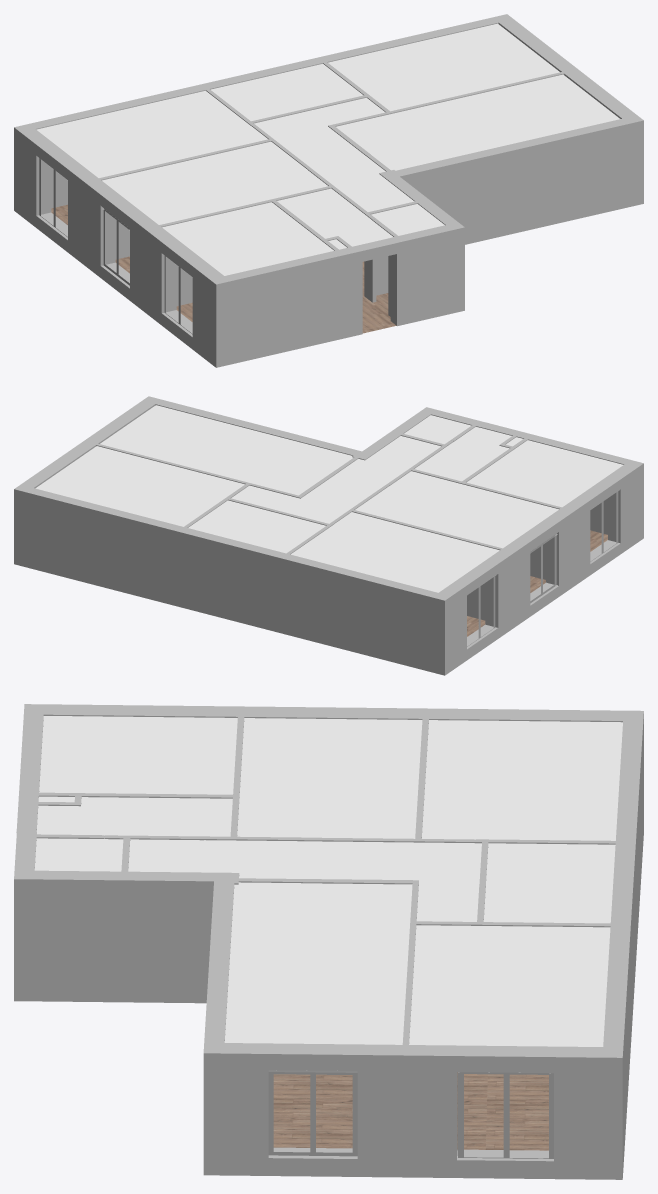
Rendered from MainMesh.gltf.
3 renders of one model, top to bottom at view 1: azimuth 30°, elevation 25°; view 2: azimuth 150°, elevation 25°; view 3: azimuth 270°, elevation 25°, orthographic. The views are drawn at different scales.
Parts seen in each view (by area): view 1: Cube, Куб; view 2: Cube, Куб; view 3: Cube, Куб.
Part boxes in pixels (box(x1,y1,x2,y2)): Cube: box(14, 14, 643, 367); Куб: box(38, 157, 192, 334); Cube: box(14, 396, 643, 675); Куб: box(467, 490, 619, 646); Cube: box(14, 704, 643, 1179); Куб: box(268, 1070, 553, 1158).
Bounding box in the file's own units: 5.63 × 0.9047 × 4.23.
Materials: 4 (1 with a texture image).
